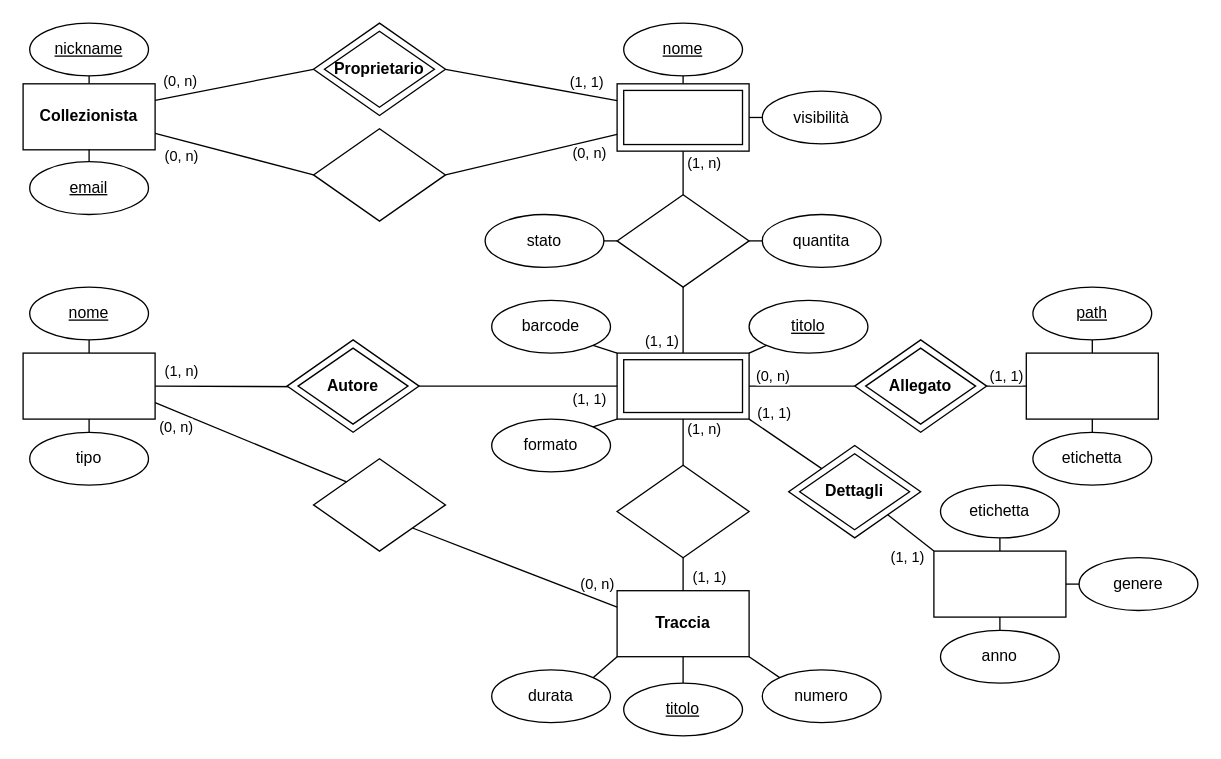
Image size: 1221x759. Some labels were removed from this diagram. The shapes that lost their labels are listed below. From the top down, each one's centre as x and y in pixels, then its label:
At pixel 682 116: "Collezione".
At pixel 379 174: "Condivisione".
At pixel 682 240: "Copia".
At pixel 88 385: "Artista".
At pixel 682 385: "Disco".
At pixel 1091 385: "Immagine".
At pixel 379 504: "Collaborazione".
At pixel 682 511: "Composto".
At pixel 999 583: "Info_Disco".
